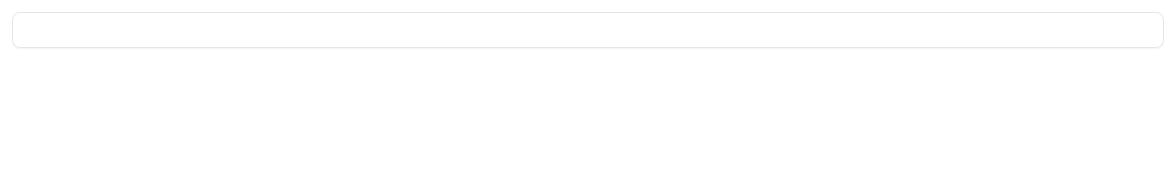
Test: WorkContentInput › 矢印キーで候補をハイライト、Enterで挿入する
Click the field. click: (588, 30)
box: [12, 12, 1164, 48]
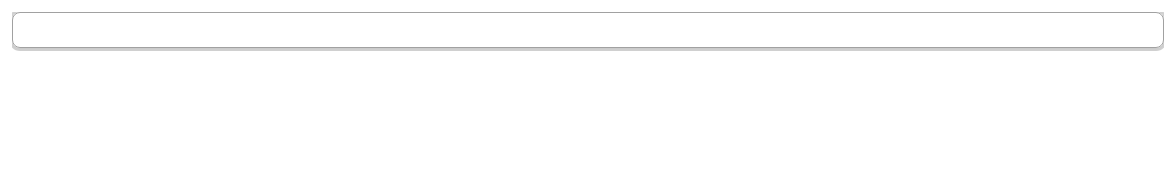
Type keys "T"
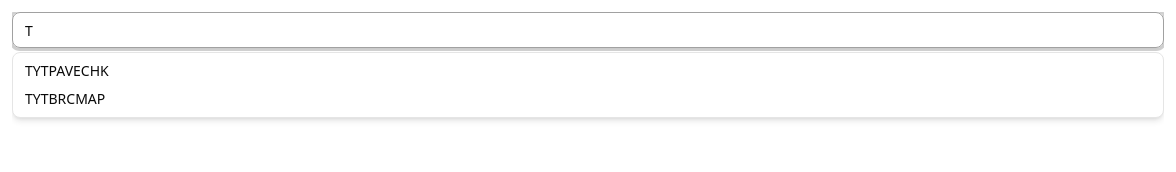
Expected: the list is shown, [12, 52, 1164, 118]
Note: 矢印下で最初の候補をアクティブにし、Enterで挿入
Press Arrowdown
Press Enter
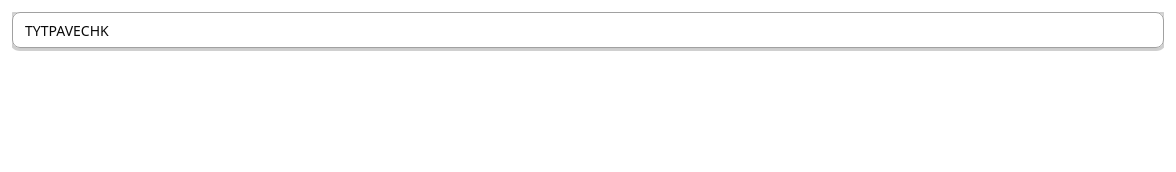
Expected: the list is gone
